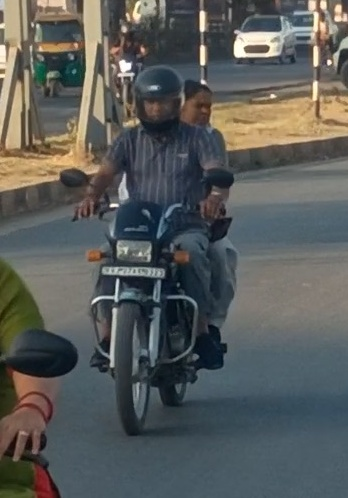BikeWithRider: (52, 60, 248, 440)
Helmet: (126, 60, 190, 134)
NoHelmet: (174, 75, 220, 131)
